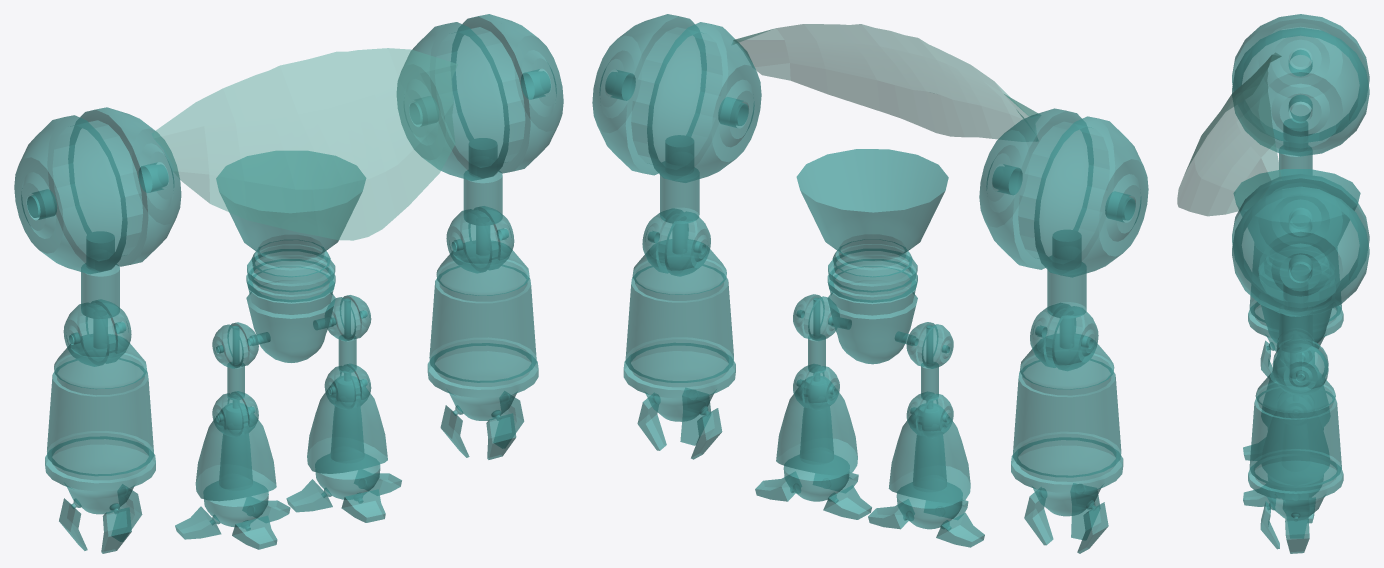
File: Robot2.fbx
3 views of the same model, side by side, from view 1: azimuth 30°, elevation 25°; view 2: azimuth 150°, elevation 25°; view 3: azimuth 270°, elevation 25° (orthographic). The views are drawn at different scales.
Visible parts, largest first — view 1: pPlane1, pCylinder3, polySurface47, polySurface46, pSphere1, pCylinder9, polySurface23, polySurface52, polySurface49, polySurface50, polySurface33, polySurface9 (+10 smaller); view 2: pCylinder3, polySurface46, polySurface47, pSphere1, pPlane1, pCylinder9, polySurface23, polySurface52, polySurface49, polySurface50, polySurface33, polySurface9 (+8 smaller); view 3: pCylinder3, polySurface46, polySurface47, pSphere1, pPlane1, pCylinder9, polySurface49, polySurface13, polySurface52, polySurface16, polySurface40, polySurface33 (+3 smaller).
Part boxes in pixels (left/top/right/bottom): pPlane1: left=152, top=48, right=457, bottom=240; pCylinder3: left=45, top=138, right=538, bottom=514; polySurface47: left=14, top=107, right=181, bottom=274; polySurface46: left=397, top=14, right=563, bottom=180; pSphere1: left=216, top=151, right=365, bottom=362; pCylinder9: left=195, top=376, right=387, bottom=501; polySurface23: left=204, top=298, right=380, bottom=527; polySurface52: left=212, top=295, right=371, bottom=436; polySurface49: left=446, top=206, right=514, bottom=273; polySurface50: left=63, top=299, right=131, bottom=366; polySurface33: left=486, top=410, right=516, bottom=459; polySurface9: left=101, top=507, right=131, bottom=553; pCylinder3: left=623, top=135, right=1123, bottom=516; polySurface46: left=592, top=14, right=761, bottom=182; polySurface47: left=979, top=108, right=1148, bottom=277; pSphere1: left=796, top=149, right=948, bottom=364; pPlane1: left=732, top=24, right=1040, bottom=140; pCylinder9: left=776, top=376, right=970, bottom=502; polySurface23: left=783, top=297, right=962, bottom=529; polySurface52: left=793, top=294, right=953, bottom=437; polySurface49: left=642, top=208, right=710, bottom=276; polySurface50: left=1030, top=303, right=1098, bottom=370; polySurface33: left=680, top=388, right=710, bottom=445; polySurface9: left=1071, top=483, right=1099, bottom=539; pCylinder3: left=1248, top=118, right=1343, bottom=519; polySurface46: left=1232, top=173, right=1369, bottom=316; polySurface47: left=1232, top=14, right=1369, bottom=156; pSphere1: left=1233, top=169, right=1360, bottom=344; pPlane1: left=1177, top=52, right=1281, bottom=216; pCylinder9: left=1261, top=366, right=1329, bottom=484; polySurface49: left=1272, top=338, right=1328, bottom=395; polySurface13: left=1285, top=512, right=1309, bottom=553; polySurface52: left=1276, top=328, right=1314, bottom=416; polySurface16: left=1285, top=492, right=1308, bottom=537; polySurface40: left=1243, top=484, right=1275, bottom=506; polySurface33: left=1260, top=501, right=1279, bottom=549.
Bounding box in the file's own units: 9.4 × 8.16 × 3.56.
